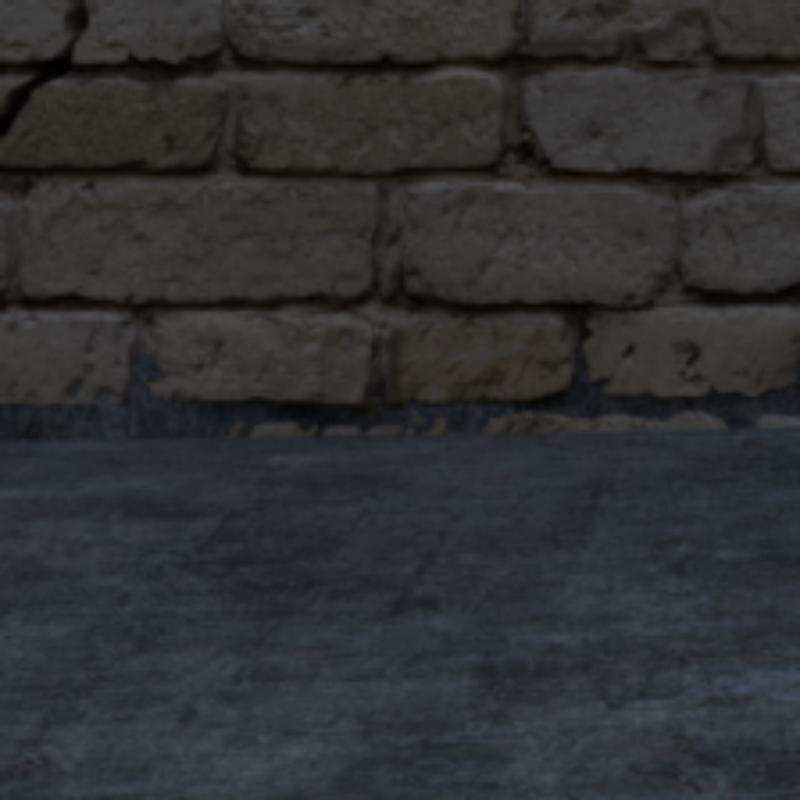pothole: (5, 3, 91, 139)
